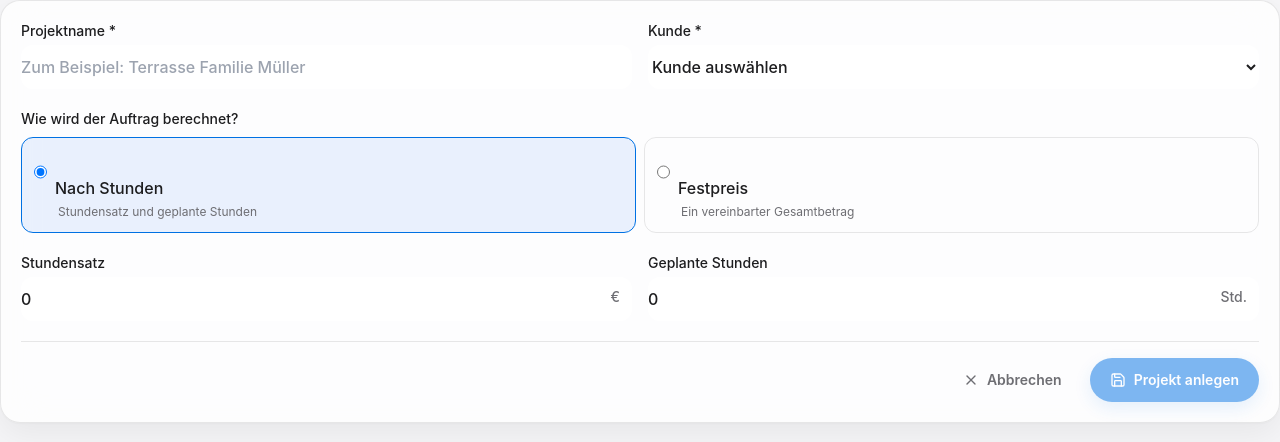
Test case: ProjectForm › shows only fields relevant to the selected billing type
The image size is (1280, 442).
Expected: the field labelled "Stundensatz €" is shown, [21,277,632,321]
Expected: the field labelled "Geplante Stunden Std." is shown, [648,277,1259,321]
Click the radio button labelled "Festpreis Ein vereinbarter Gesamtbetrag".
click(664, 172)  # box [657,150,670,194]
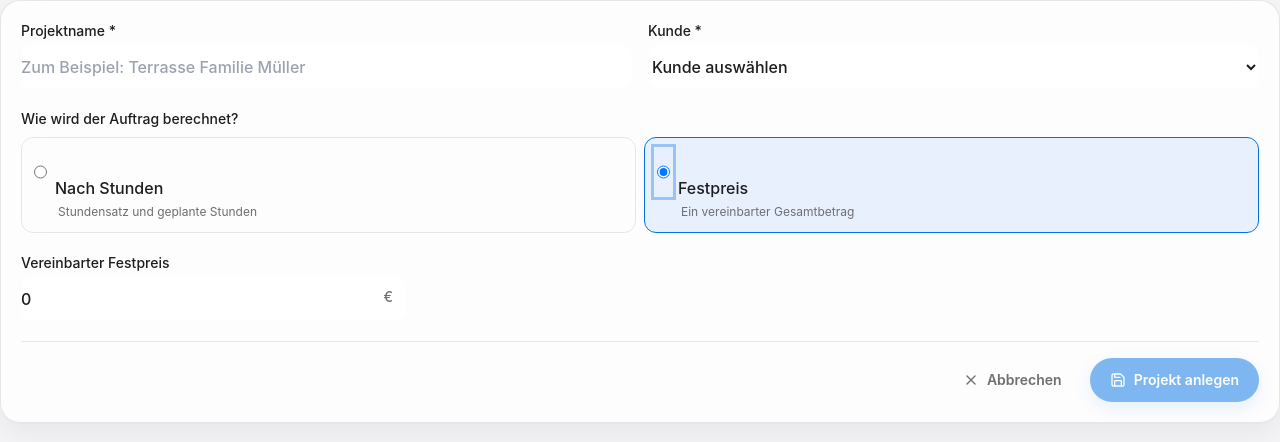
Result: the field labelled "Vereinbarter Festpreis €" is shown at [21,277,405,321]
